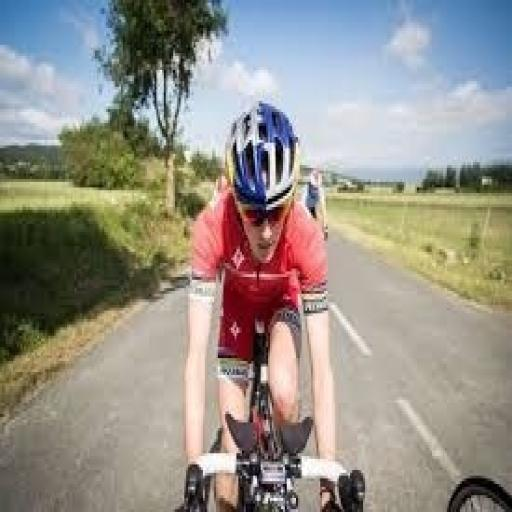cycling: (177, 98, 369, 509)
